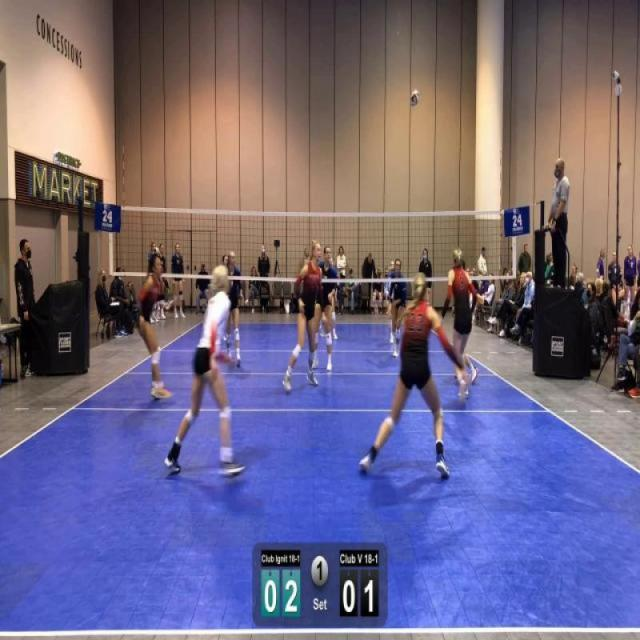volleyball: (409, 88, 419, 108)
